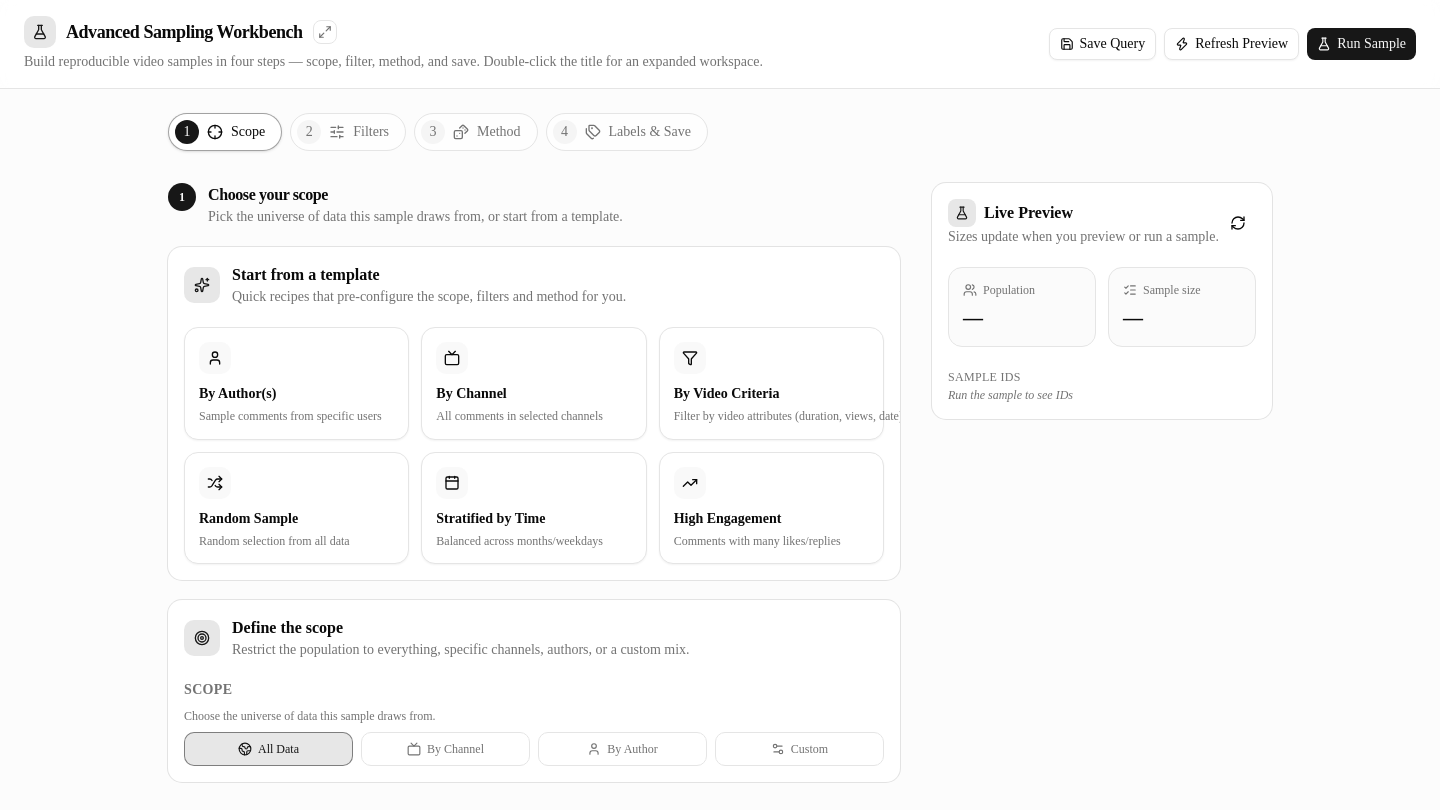
Scenario: sampling: SamplingWorkbench › runs a preview via the Refresh Preview button and shows ids
Click the button "Refresh Preview".
click(1232, 44)  # box left=1164, top=28, right=1299, bottom=60
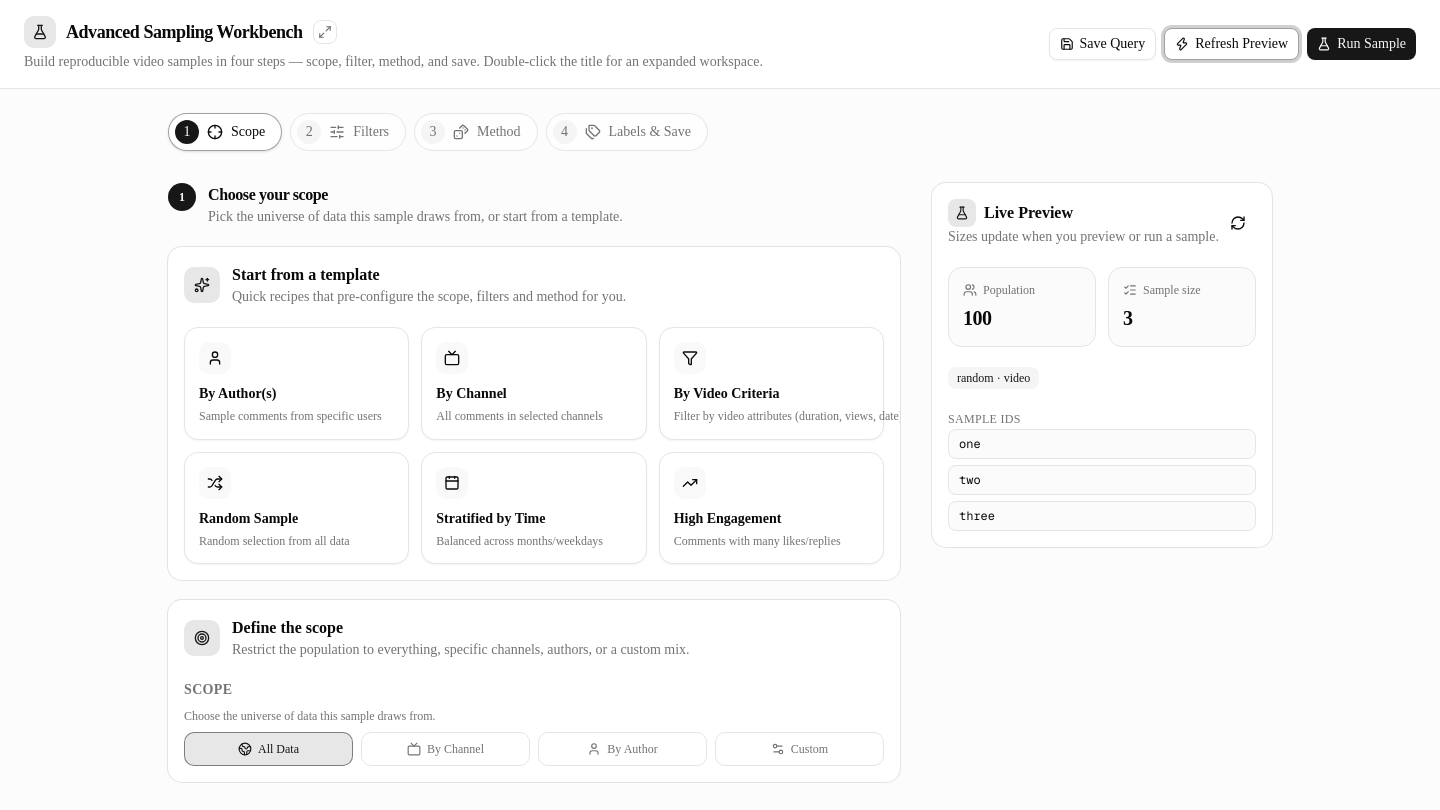
Expected: the text "one" is shown, left=948, top=429, right=1256, bottom=459
